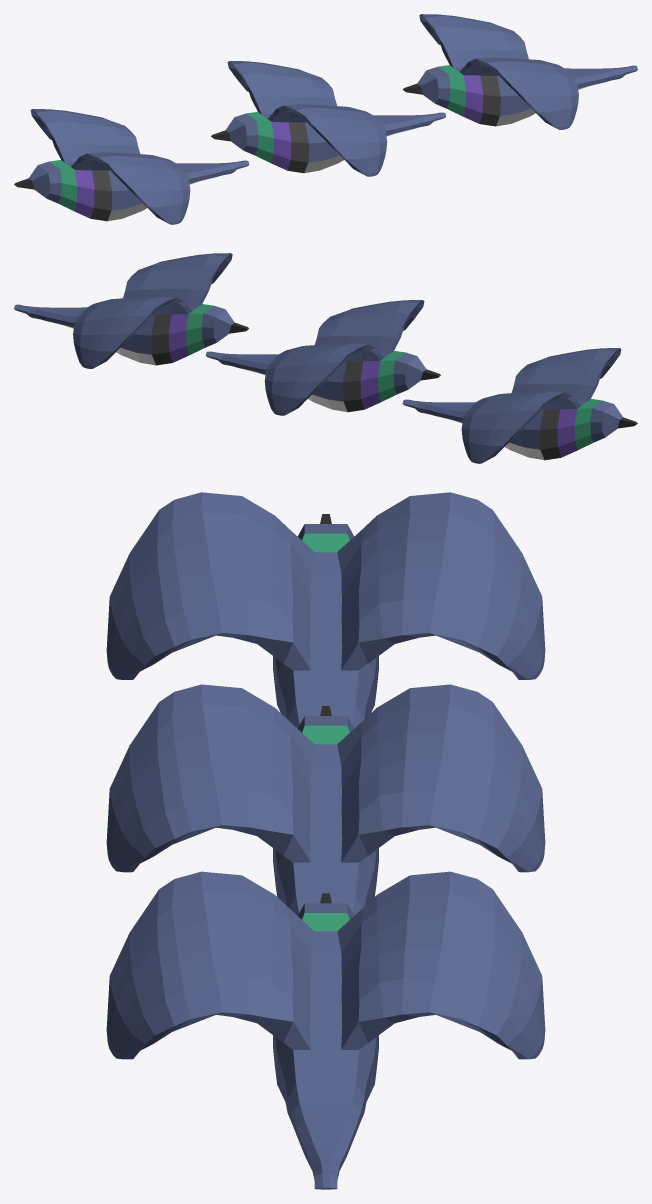
Rendered from demo-pigeon.glb.
3 renders of one model, top to bottom at view 1: azimuth 30°, elevation 25°; view 2: azimuth 150°, elevation 25°; view 3: azimuth 270°, elevation 25°, orthographic. The views are drawn at different scales.
Visible parts, largest first — view 1: bird; view 2: bird; view 3: bird.
Part boxes in pixels (box(x1,y1,x2,y2)): bird: box(14, 14, 637, 224); bird: box(14, 253, 637, 463); bird: box(106, 492, 545, 1189).
Bounding box in the file's own units: 11.99 × 1.62 × 3.66.
